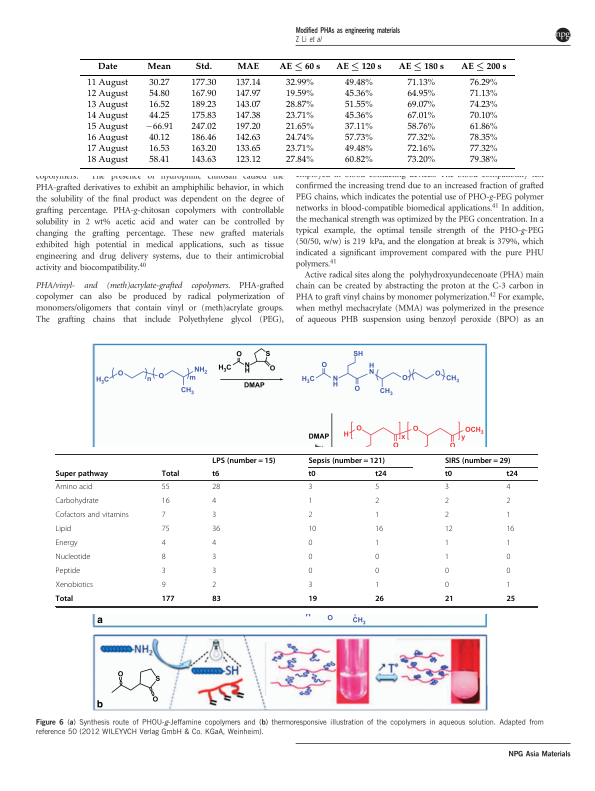borderless: (54, 452, 537, 606), (79, 57, 515, 168)
cell: (55, 510, 130, 520), (307, 456, 386, 465), (444, 456, 511, 465), (211, 456, 276, 465), (55, 469, 109, 479), (335, 62, 382, 72), (397, 62, 444, 72), (460, 62, 507, 72), (86, 78, 128, 89), (86, 89, 128, 100), (86, 100, 128, 111), (86, 111, 128, 122), (86, 122, 128, 133), (86, 133, 128, 144), (86, 144, 128, 155), (86, 155, 128, 166), (55, 496, 100, 506), (278, 62, 321, 72), (55, 580, 94, 590), (55, 482, 93, 492), (55, 552, 91, 562), (343, 78, 373, 89), (406, 78, 436, 89), (468, 78, 498, 89), (343, 89, 373, 100), (406, 89, 436, 100), (468, 89, 498, 100), (343, 100, 373, 111), (406, 100, 436, 111), (468, 100, 498, 111), (343, 111, 373, 122), (406, 111, 436, 122), (468, 111, 498, 122), (144, 122, 174, 133), (343, 122, 373, 133), (406, 122, 436, 133), (468, 122, 498, 133), (343, 133, 373, 144), (406, 133, 436, 144), (468, 133, 498, 144), (343, 144, 373, 155), (406, 144, 436, 155), (468, 144, 498, 155), (343, 155, 373, 166), (406, 155, 436, 166), (468, 155, 498, 166), (285, 78, 314, 89), (285, 89, 314, 100), (285, 100, 314, 111), (285, 111, 314, 122), (285, 122, 314, 133), (285, 133, 314, 144), (285, 144, 314, 155), (285, 155, 314, 166), (190, 78, 217, 89), (234, 78, 261, 89), (190, 89, 217, 100), (234, 89, 261, 100), (190, 100, 217, 111), (234, 100, 261, 111), (190, 111, 217, 122), (234, 111, 261, 122), (190, 122, 217, 133), (234, 122, 261, 133), (190, 133, 217, 144), (234, 133, 261, 144), (190, 144, 217, 155), (234, 144, 261, 155), (190, 155, 217, 166), (234, 155, 261, 166), (55, 566, 81, 576), (148, 78, 170, 89), (148, 89, 170, 100), (148, 100, 170, 111), (148, 111, 170, 122), (148, 133, 170, 144), (148, 144, 170, 155), (148, 155, 170, 166), (55, 538, 78, 548), (146, 62, 172, 70), (161, 469, 180, 479), (55, 594, 74, 604), (236, 62, 259, 70), (96, 62, 118, 70), (55, 524, 72, 534), (194, 62, 212, 70), (374, 469, 388, 479), (505, 469, 519, 479), (161, 594, 175, 604), (211, 594, 222, 604), (307, 594, 318, 604), (374, 594, 385, 604), (505, 594, 516, 604), (211, 482, 221, 492), (211, 524, 221, 534), (307, 524, 317, 534), (374, 524, 384, 534), (444, 524, 454, 534), (505, 524, 515, 534), (444, 594, 454, 604), (211, 469, 220, 479), (307, 469, 316, 479), (444, 469, 453, 479), (161, 482, 170, 492), (161, 496, 170, 506), (161, 524, 170, 534), (307, 482, 313, 492), (374, 482, 380, 492), (444, 482, 450, 492), (505, 482, 511, 492), (211, 496, 217, 506), (307, 496, 313, 506), (374, 496, 380, 506), (444, 496, 450, 506), (505, 496, 511, 506), (161, 510, 167, 520), (211, 510, 217, 520), (307, 510, 313, 520), (374, 510, 380, 520), (444, 510, 450, 520), (505, 510, 511, 520), (161, 538, 167, 548), (211, 538, 217, 548), (307, 538, 313, 548), (374, 538, 380, 548), (444, 538, 450, 548), (505, 538, 511, 548), (161, 552, 167, 562), (211, 552, 217, 562), (307, 552, 313, 562), (374, 552, 380, 562), (444, 552, 450, 562), (505, 552, 511, 562), (161, 566, 167, 576), (211, 566, 217, 576), (307, 566, 313, 576), (374, 566, 380, 576), (444, 566, 450, 576), (505, 566, 511, 576), (161, 580, 167, 590), (211, 580, 217, 590), (307, 580, 313, 590), (374, 580, 380, 590), (444, 580, 450, 590), (505, 580, 511, 590)
